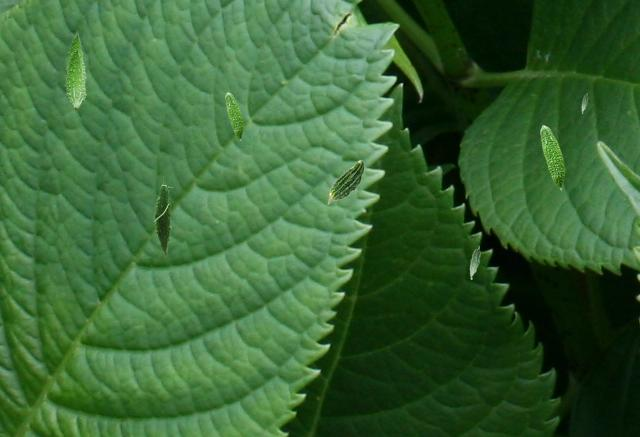ampalaya: (152, 175, 174, 256), (540, 124, 566, 190), (327, 159, 364, 204), (64, 47, 87, 110), (65, 33, 87, 81), (225, 92, 244, 141), (469, 245, 480, 280), (581, 92, 588, 114)
